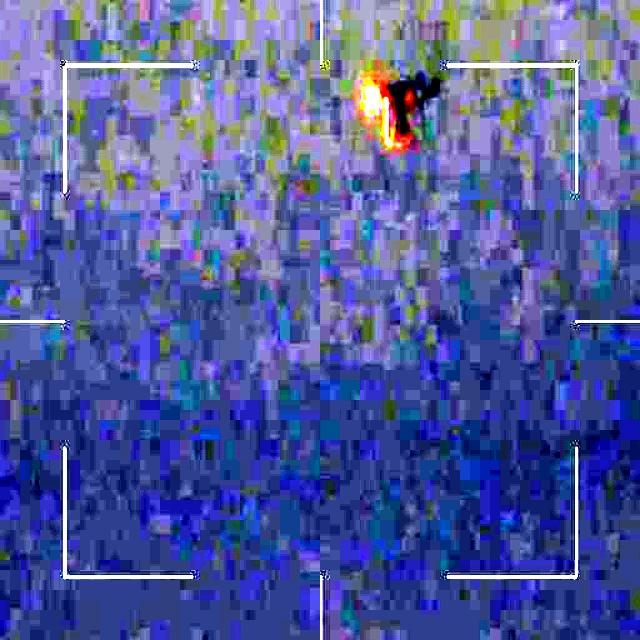bird: (356, 66, 438, 175)
